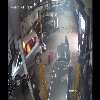fire: (21, 35, 37, 54)
